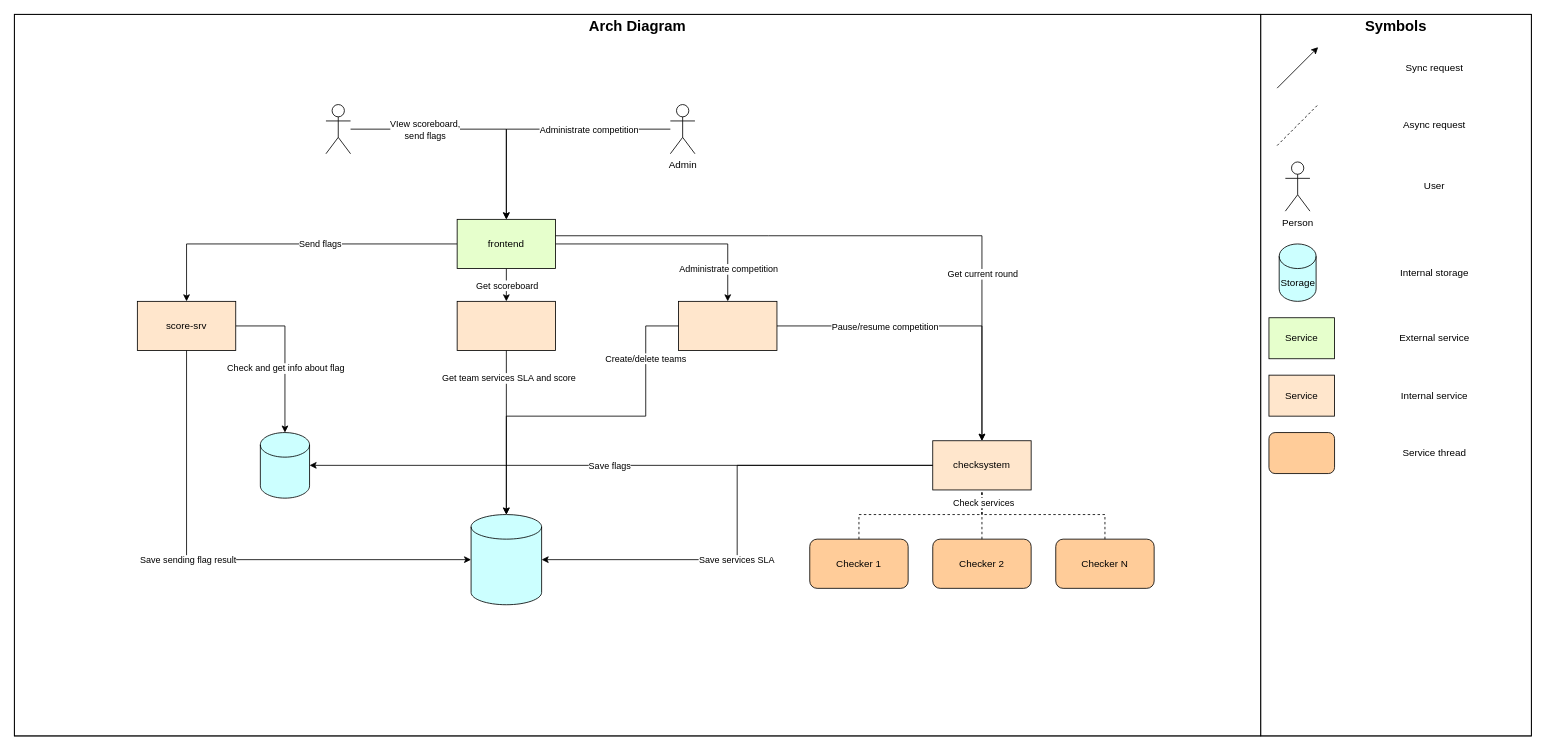
Some shapes in this 1546 by 750 pixel diagram are drawn without their labels. Here are the shapes that lost their labels. From the top down, the centre of each, then its label:
At (x=338, y=129): "Player".
At (x=506, y=326): "board-srv".
At (x=727, y=326): "admin-srv".
At (x=285, y=465): "Redis".
At (x=1301, y=453): "Thread".
At (x=506, y=559): "Postgres".
